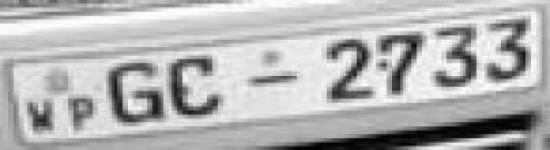-: (245, 70, 302, 90)
2: (318, 37, 378, 104)
3: (479, 14, 536, 86), (432, 22, 482, 93)
7: (374, 30, 432, 99)
C: (167, 53, 226, 122)
G: (106, 57, 166, 128)
P: (64, 93, 101, 136)
W: (22, 98, 60, 137)
